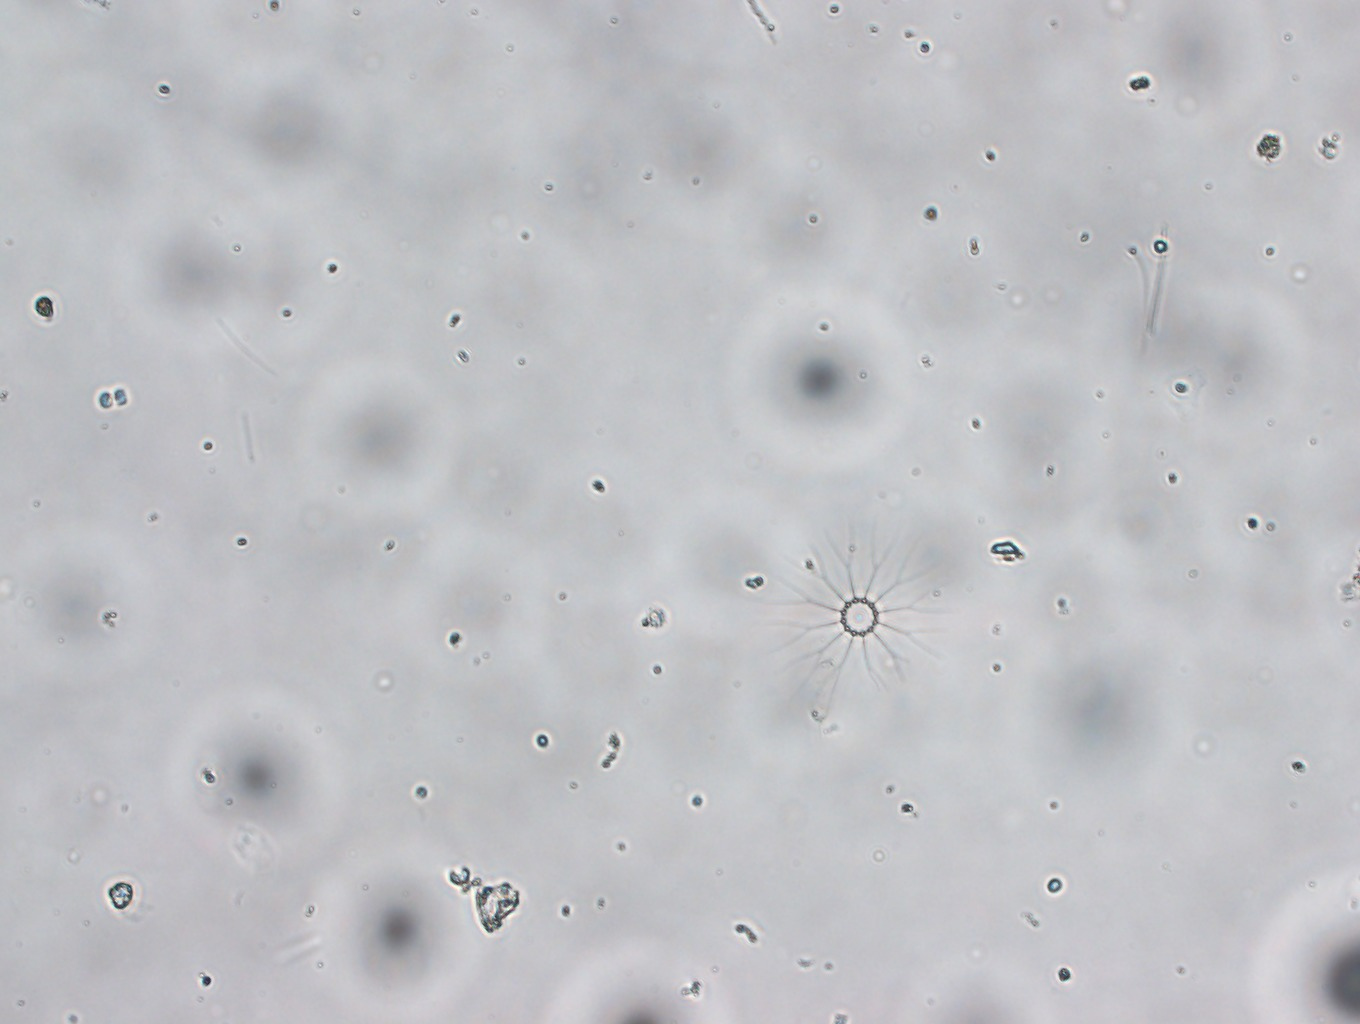bacteriastrum: (769, 516, 968, 717)
